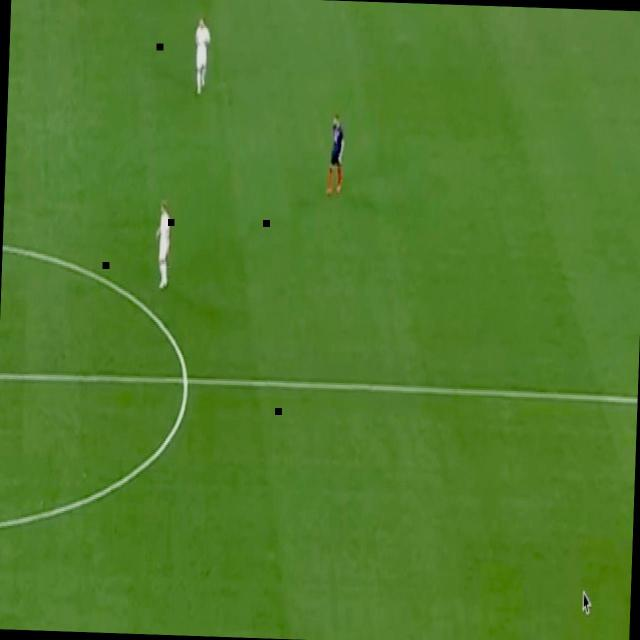player-white: (324, 113, 345, 197), (154, 200, 172, 290), (193, 15, 211, 96)
